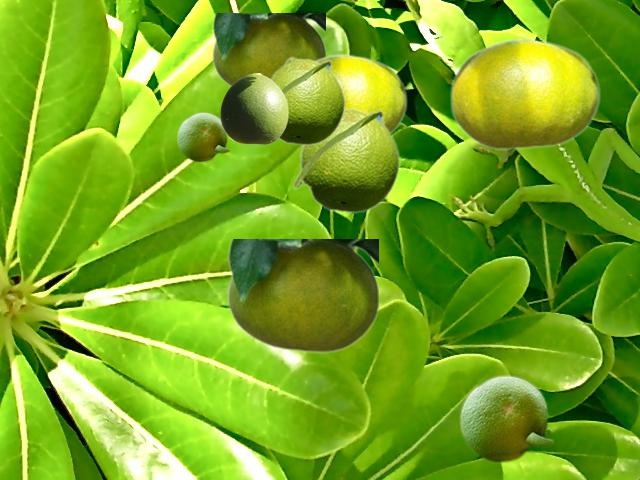dalandan: (449, 37, 599, 150), (227, 239, 377, 352), (291, 105, 400, 213), (458, 373, 554, 462), (212, 13, 324, 86), (315, 53, 406, 133), (270, 56, 345, 145), (220, 73, 287, 143), (176, 111, 230, 161)
